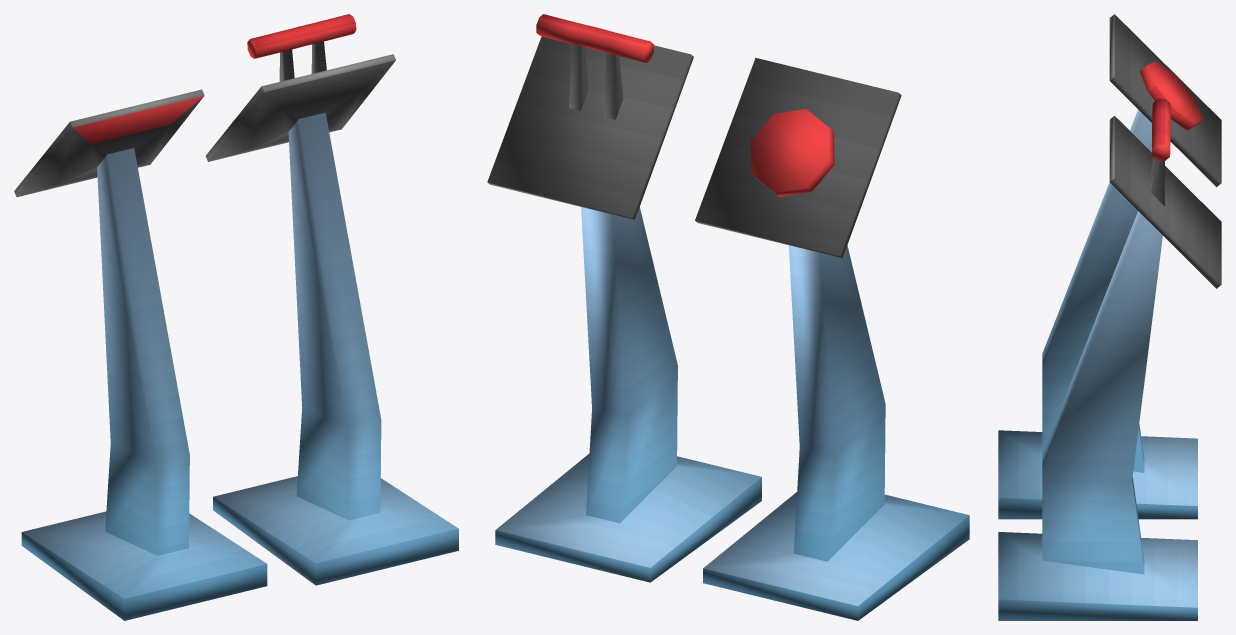
File: Switch Button.fbx
The picture shows the model from 3 angles, left to right: view 1: azimuth 30°, elevation 25°; view 2: azimuth 150°, elevation 25°; view 3: azimuth 270°, elevation 25°; orthographic projection. The views are drawn at different scales.
Parts seen in each view (by area): view 1: Circle.011, Cube.005; view 2: Circle.011, Cube.005; view 3: Circle.011, Cube.005.
Part boxes in pixels (x1,y1,x2,y2): Circle.011: [205, 14, 458, 585]; Cube.005: [14, 89, 267, 620]; Circle.011: [487, 14, 761, 582]; Cube.005: [695, 58, 969, 620]; Circle.011: [998, 98, 1221, 620]; Cube.005: [998, 14, 1221, 519].
Size of the model in its own units: 89.46 by 123 by 53.31.
